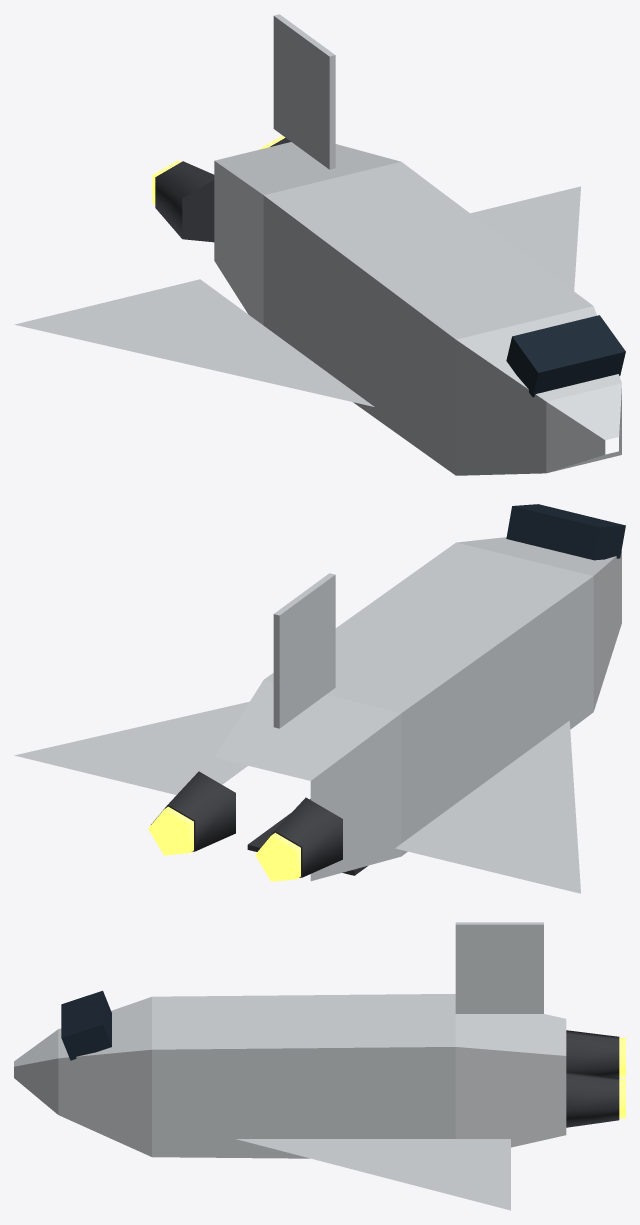
Rendered from space_ship_shuttle_mk2_lod1.glb.
3 views of the same model, one above another, from view 1: azimuth 30°, elevation 25°; view 2: azimuth 150°, elevation 25°; view 3: azimuth 270°, elevation 25° (orthographic). The views are drawn at different scales.
Visible parts, largest first — view 1: body, engine_1; view 2: body, engine_0, engine_1; view 3: body, engine_0, engine_1.
Part boxes in pixels (<box>): body: <box>14,14,625,475</box>; engine_1: <box>152,160,214,242</box>; body: <box>14,504,625,893</box>; engine_0: <box>148,771,235,855</box>; engine_1: <box>255,797,342,881</box>; body: <box>14,922,566,1210</box>; engine_0: <box>566,1071,625,1127</box>; engine_1: <box>566,1030,625,1077</box>.
Size of the model in its own units: 9.44 by 4.23 by 11.17.
